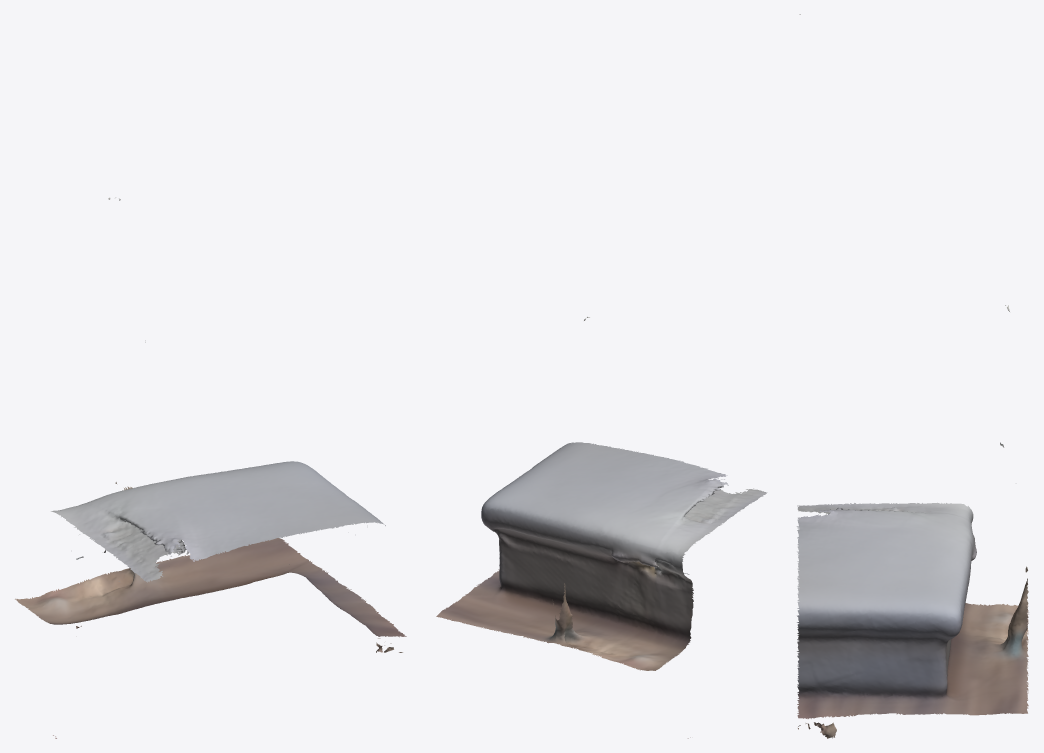
The model's file is apartment-full-77-dfff88ba142e.glb.
3 renders of one model, left to right at view 1: azimuth 30°, elevation 25°; view 2: azimuth 150°, elevation 25°; view 3: azimuth 270°, elevation 25°, orthographic. The views are drawn at different scales.
Bounding box in the file's own units: 0.985 × 2.82 × 0.869.
